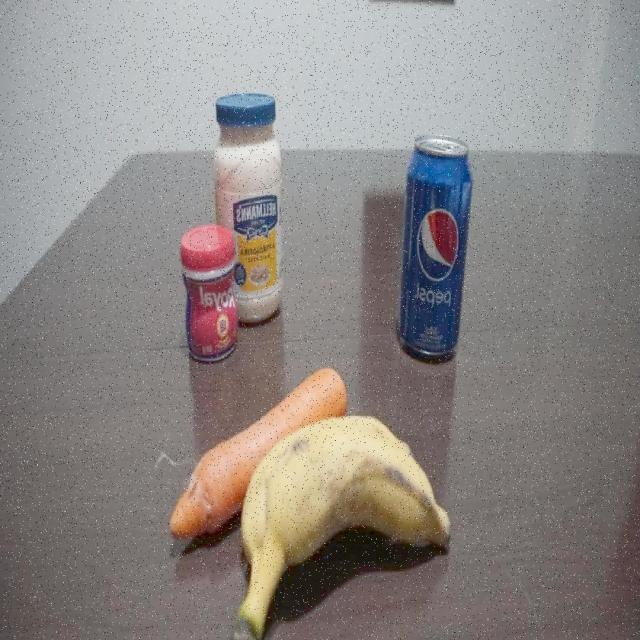Banana: (240, 413, 450, 584)
Carrot: (173, 361, 345, 534)
Mayonnaise: (218, 93, 284, 322)
SodaCan: (395, 129, 474, 357)
Yeast: (184, 224, 239, 356)
